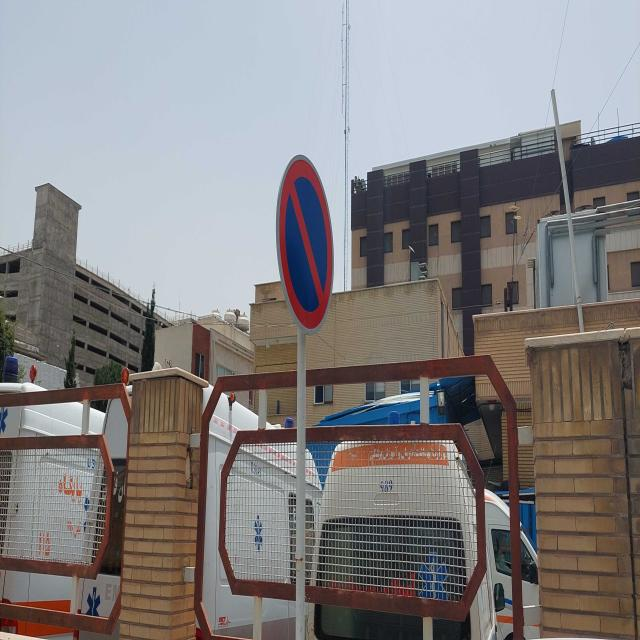forb_stopping: (276, 151, 334, 335)
